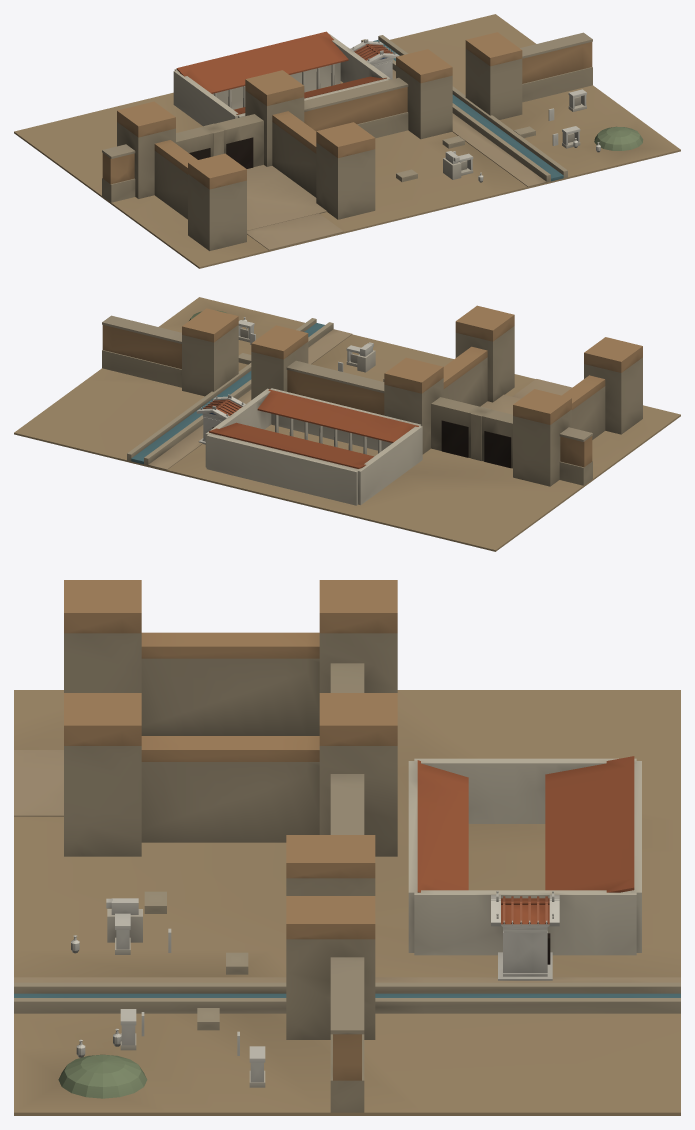
File: dipylon.glb
The picture shows the model from 3 angles, top to bottom: view 1: azimuth 30°, elevation 25°; view 2: azimuth 150°, elevation 25°; view 3: azimuth 270°, elevation 25°; orthographic projection. The views are drawn at different scales.
Parts seen in each view (by area): view 1: p1_walls, p0_ground, p3_pompeion, p2_graves; view 2: p1_walls, p0_ground, p3_pompeion, p2_graves; view 3: p0_ground, p1_walls, p3_pompeion, p2_graves.
Boxes of the visible parts, x1=… form: p1_walls: x1=102, y1=32, x2=592, y2=250; p0_ground: x1=14, y1=14, x2=680, y2=268; p3_pompeion: x1=173, y1=31, x2=399, y2=126; p2_graves: x1=396, y1=89, x2=643, y2=182; p1_walls: x1=102, y1=305, x2=642, y2=486; p0_ground: x1=14, y1=297, x2=680, y2=551; p3_pompeion: x1=196, y1=388, x2=422, y2=505; p2_graves: x1=189, y1=310, x2=384, y2=381; p0_ground: x1=14, y1=690, x2=680, y2=1115; p1_walls: x1=14, y1=580, x2=680, y2=1112; p3_pompeion: x1=408, y1=756, x2=641, y2=980; p2_graves: x1=58, y1=891, x2=265, y2=1098.
Size of the model in its own units: 90 by 13.3 by 60.
